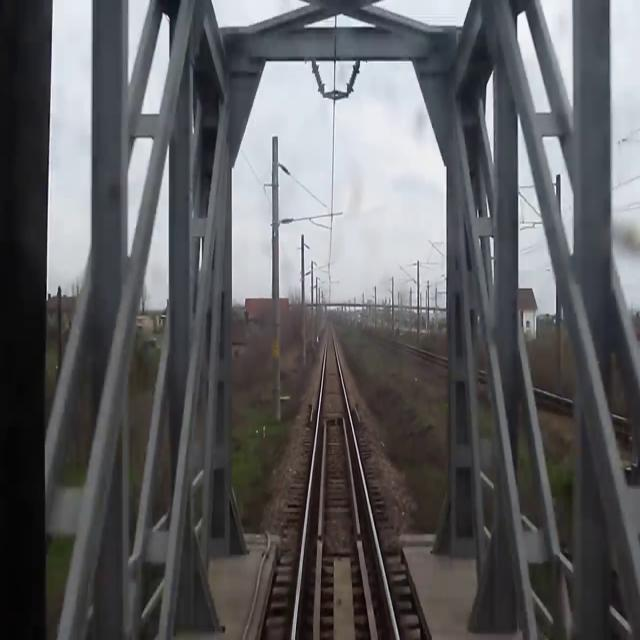rail-track: (296, 327, 394, 639), (531, 391, 573, 408)
